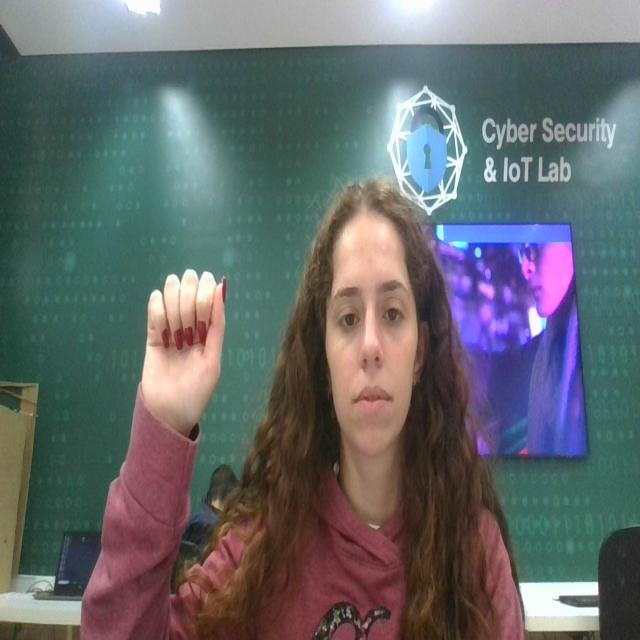A: (141, 258, 235, 433)
